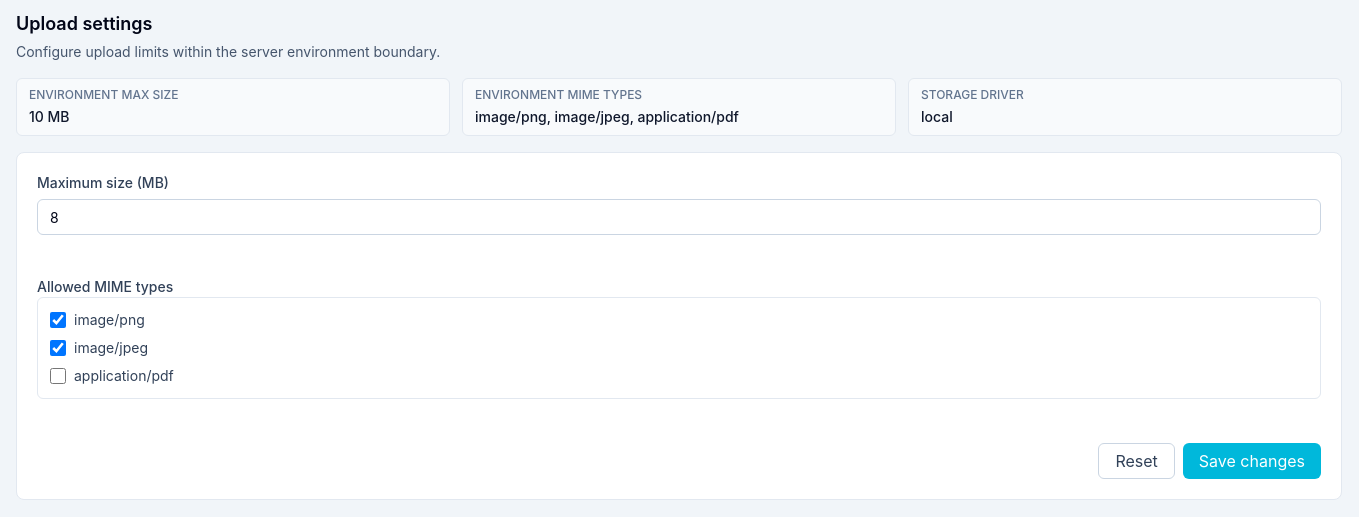
Test: UploadSettingsPage › does not submit when the selected MIME list is empty
Click the checkbox labelled "image/png" at (58, 320), box [50,312,66,328]
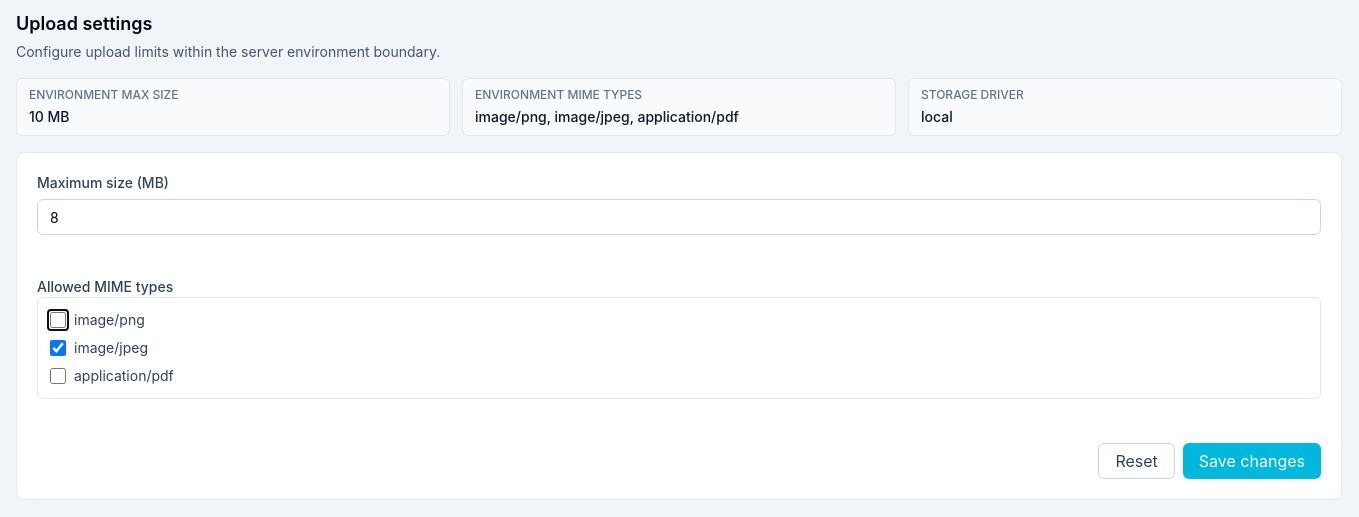
Click the checkbox labelled "image/jpeg" at (58, 348), box [50,340,66,356]
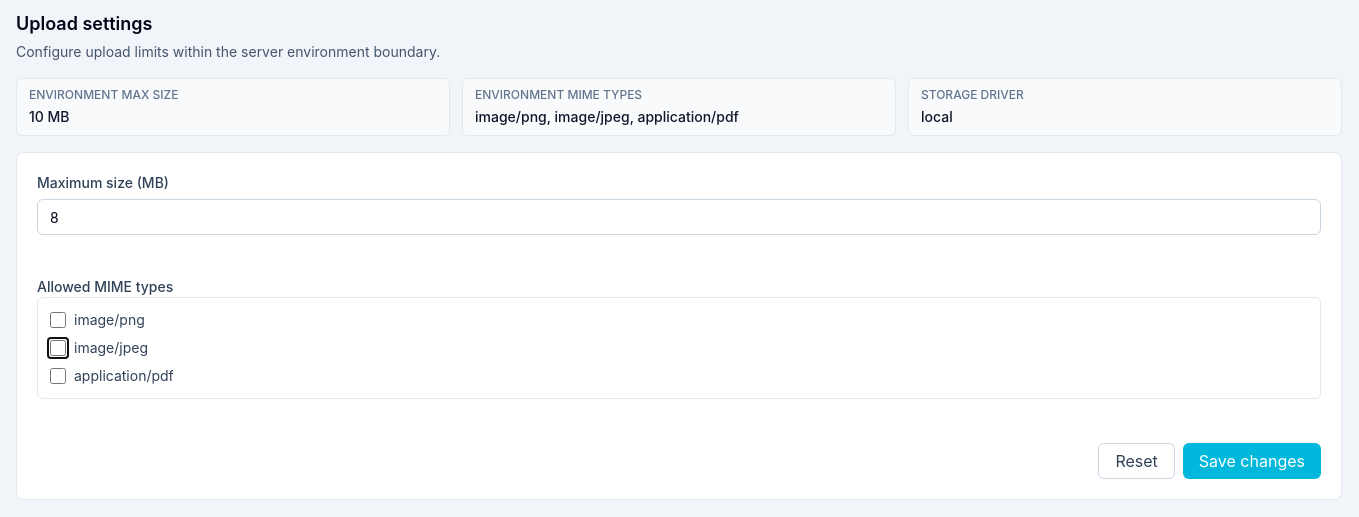
Click the button "Save changes" at (1252, 461), box [1183,443,1321,479]
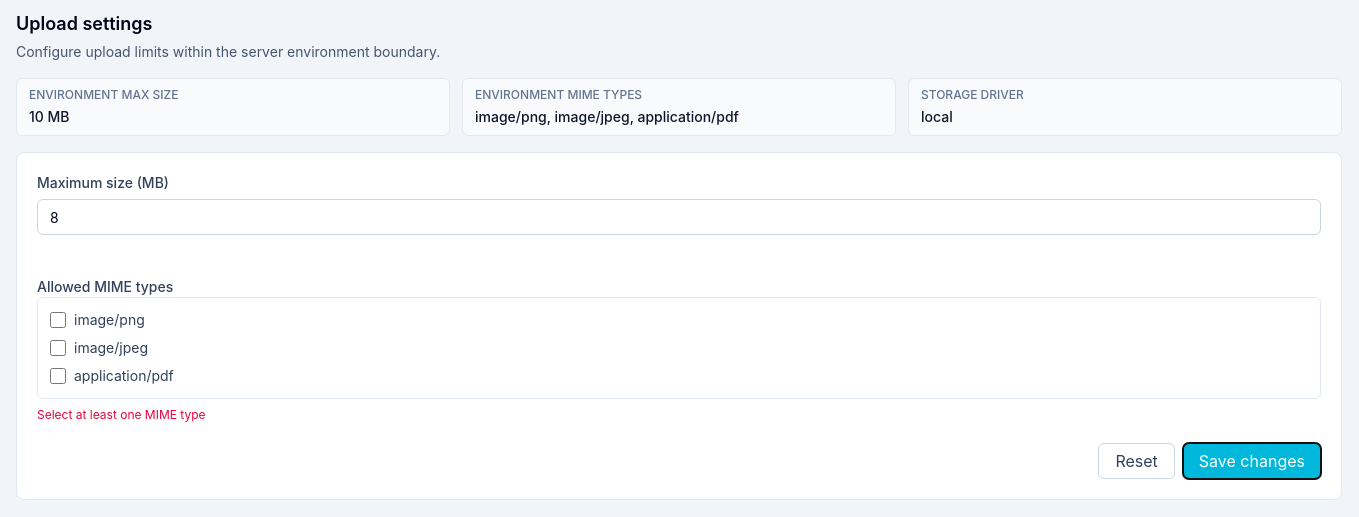
Now the text "Select at least one MIME type" is shown, box [37,407,206,422]
